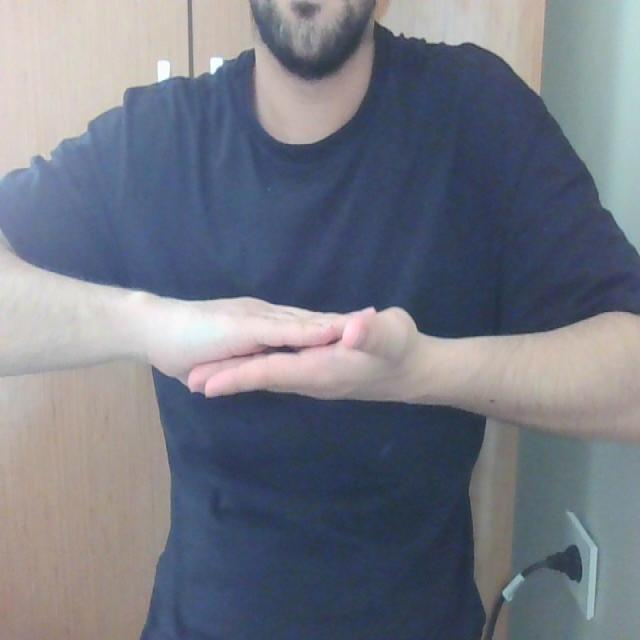Arkadas: (1, 241, 640, 459)
